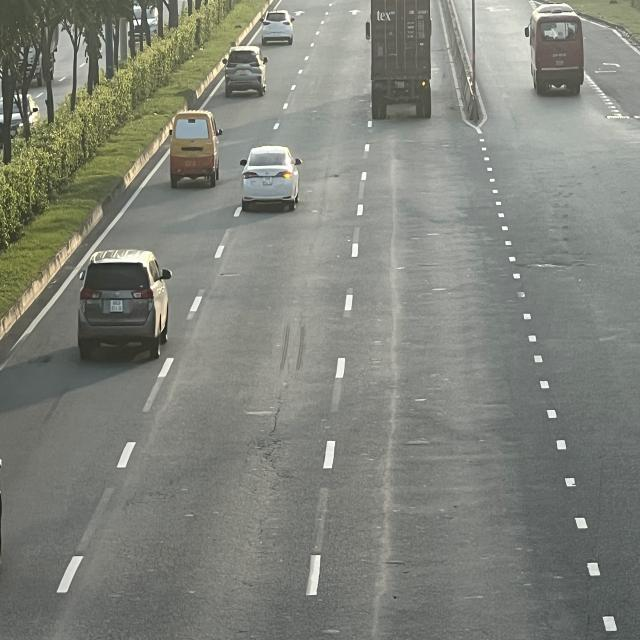car: (79, 249, 174, 359), (241, 144, 304, 207), (221, 46, 267, 98), (262, 9, 296, 45)
coach: (527, 3, 586, 92)
container: (368, 2, 435, 119)
van: (168, 110, 224, 188)
